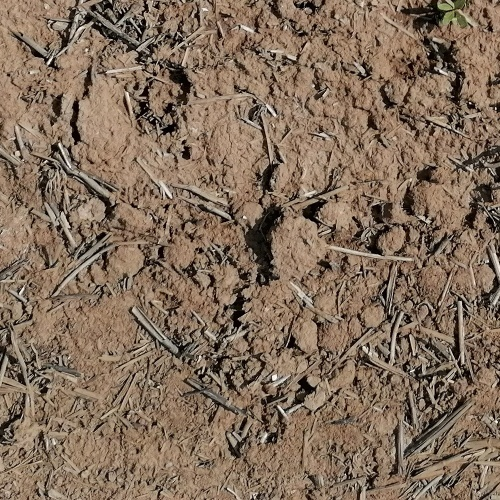beet: (435, 0, 473, 26)
